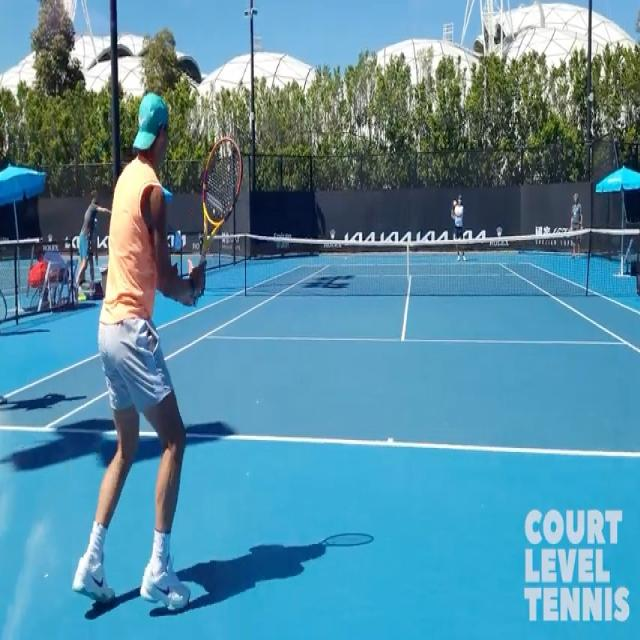ready-position: (72, 90, 245, 613)
